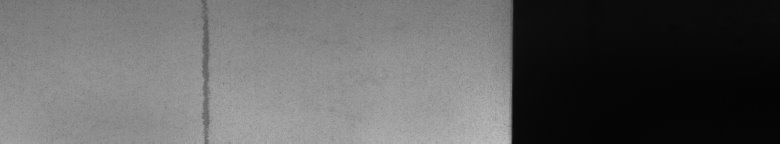hd: (197, 4, 215, 136)
